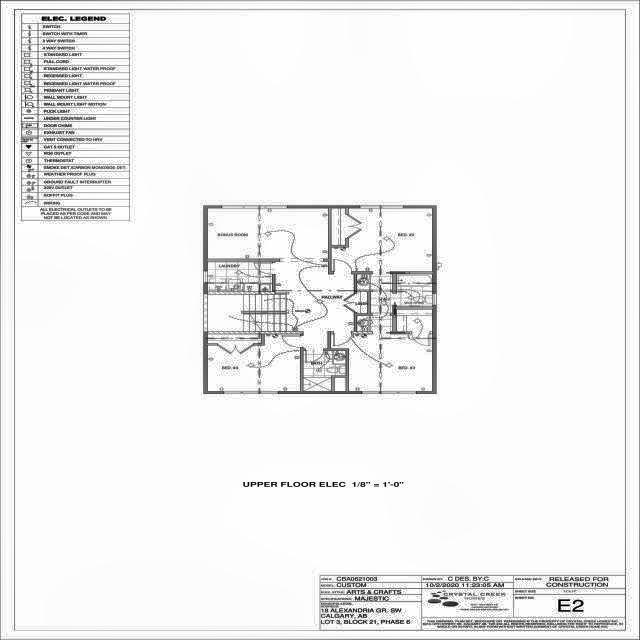room: (331, 208, 432, 271), (331, 334, 432, 391), (208, 334, 300, 391), (357, 274, 393, 331), (208, 262, 272, 292), (303, 351, 346, 391), (397, 274, 432, 307), (397, 309, 432, 331), (331, 208, 345, 245), (357, 292, 368, 314)
